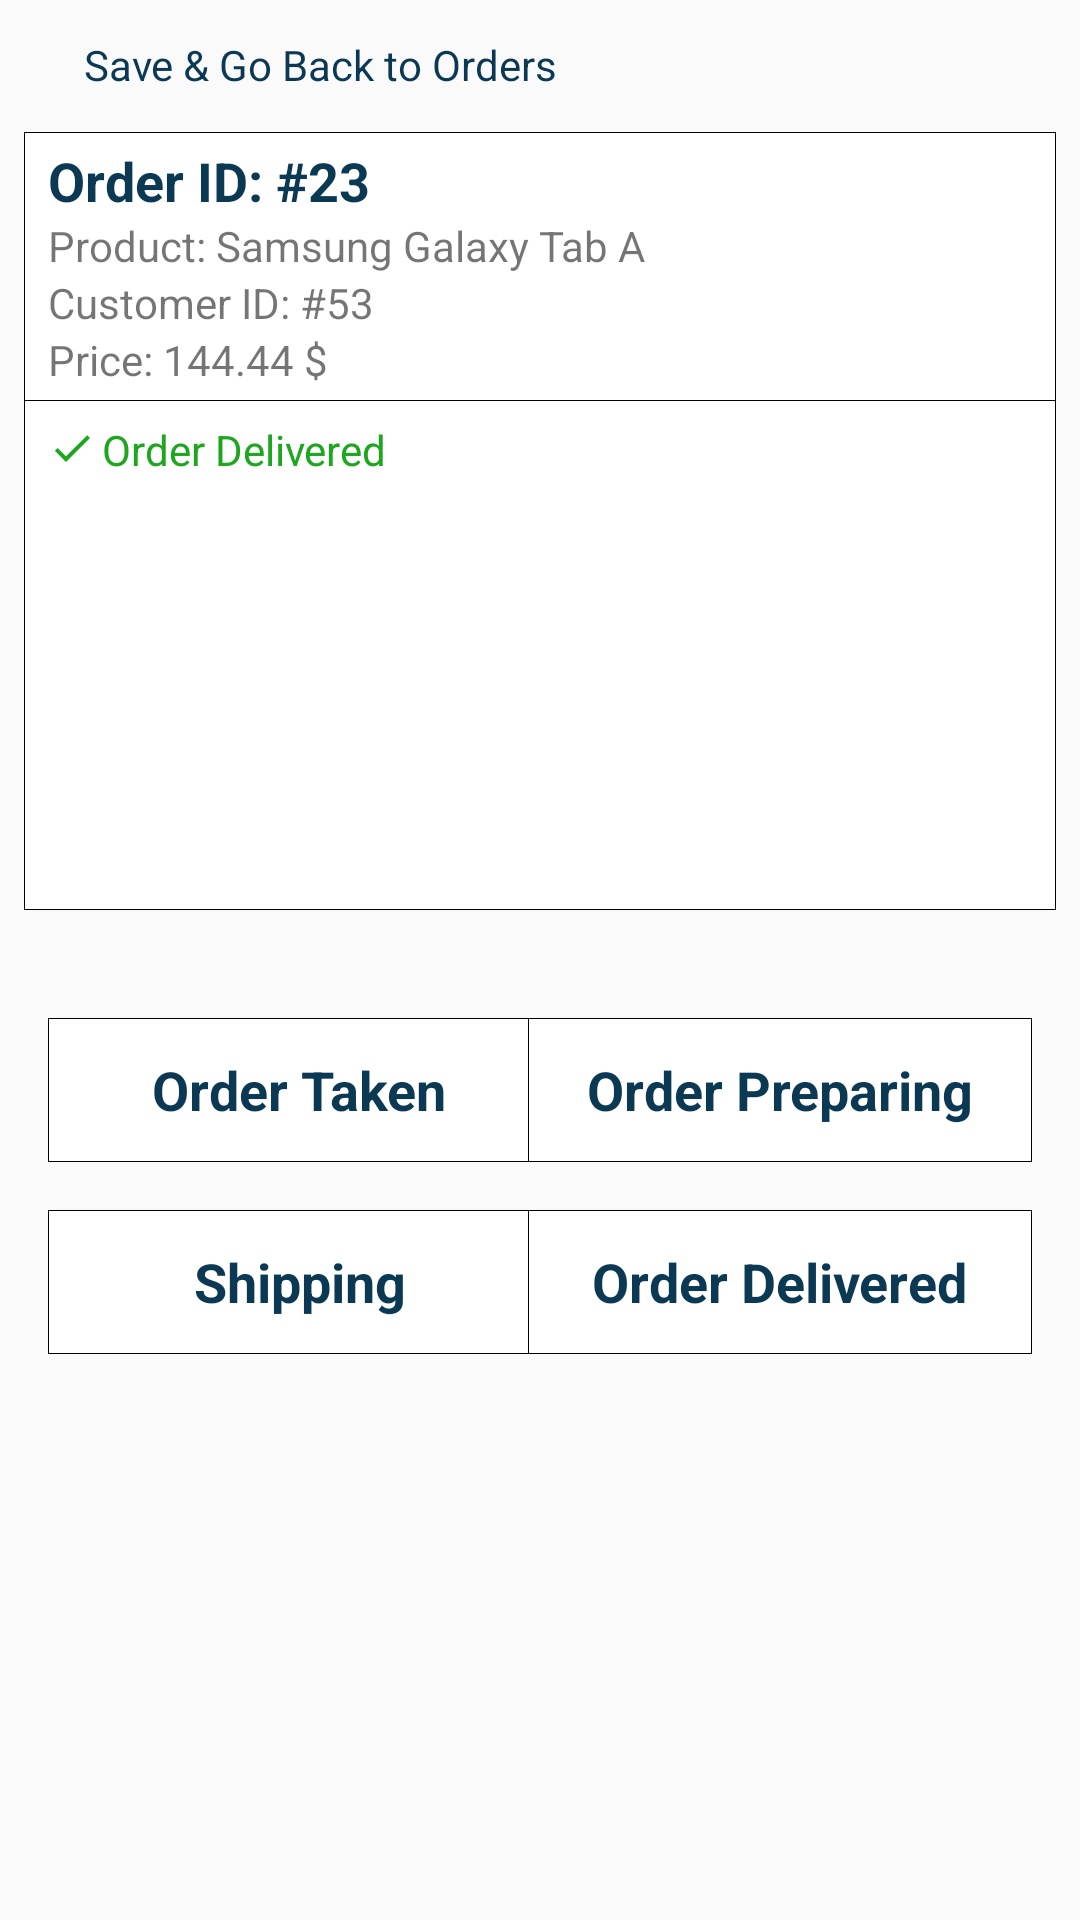

Screen size 1080px×1920px. Icon name, then its box in pixels as box(x1, y1, x2, y2):
check: box(55, 435, 90, 462)
